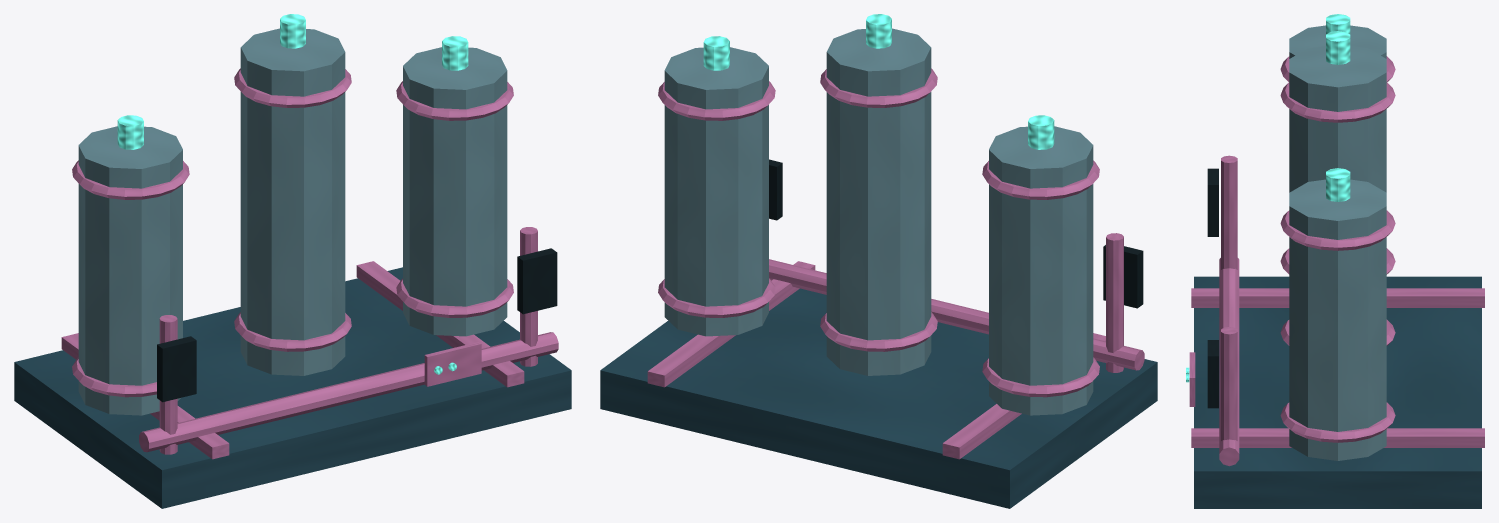
The model's file is atlas100-s068-a01.glb.
3 views of the same model, side by side, from view 1: azimuth 30°, elevation 25°; view 2: azimuth 150°, elevation 25°; view 3: azimuth 270°, elevation 25° (orthographic). The views are drawn at different scales.
Visible parts, largest first — view 1: atlas100-s068-a01:part-000, atlas100-s068-a01:part-007, atlas100-s068-a01:part-011, atlas100-s068-a01:part-003, atlas100-s068-a01:part-019, atlas100-s068-a01:part-018, atlas100-s068-a01:part-016, atlas100-s068-a01:part-002, atlas100-s068-a01:part-020, atlas100-s068-a01:part-009, atlas100-s068-a01:part-005, atlas100-s068-a01:part-013 (+9 smaller); view 2: atlas100-s068-a01:part-000, atlas100-s068-a01:part-007, atlas100-s068-a01:part-011, atlas100-s068-a01:part-003, atlas100-s068-a01:part-019, atlas100-s068-a01:part-002, atlas100-s068-a01:part-015, atlas100-s068-a01:part-001, atlas100-s068-a01:part-009, atlas100-s068-a01:part-004, atlas100-s068-a01:part-005, atlas100-s068-a01:part-013 (+7 smaller); view 3: atlas100-s068-a01:part-000, atlas100-s068-a01:part-011, atlas100-s068-a01:part-007, atlas100-s068-a01:part-002, atlas100-s068-a01:part-001, atlas100-s068-a01:part-019, atlas100-s068-a01:part-015, atlas100-s068-a01:part-017, atlas100-s068-a01:part-003, atlas100-s068-a01:part-013, atlas100-s068-a01:part-012, atlas100-s068-a01:part-009 (+9 smaller).
Part boxes in pixels (x1,y1,x2,y2): atlas100-s068-a01:part-000: (14,267,571,508); atlas100-s068-a01:part-007: (240,28,345,375); atlas100-s068-a01:part-011: (403,47,507,336); atlas100-s068-a01:part-003: (78,126,182,415); atlas100-s068-a01:part-019: (139,332,558,452); atlas100-s068-a01:part-018: (517,248,557,314); atlas100-s068-a01:part-016: (157,336,196,402); atlas100-s068-a01:part-002: (356,261,524,387); atlas100-s068-a01:part-020: (424,342,481,386); atlas100-s068-a01:part-009: (234,68,351,107); atlas100-s068-a01:part-005: (72,160,189,199); atlas100-s068-a01:part-013: (396,81,513,120); atlas100-s068-a01:part-000: (600,288,1157,508); atlas100-s068-a01:part-007: (826,28,931,375); atlas100-s068-a01:part-011: (664,47,768,336); atlas100-s068-a01:part-003: (989,126,1093,415); atlas100-s068-a01:part-019: (769,259,1144,370); atlas100-s068-a01:part-002: (647,261,815,387); atlas100-s068-a01:part-015: (1106,233,1123,372); atlas100-s068-a01:part-001: (942,333,1105,459); atlas100-s068-a01:part-009: (820,68,937,107); atlas100-s068-a01:part-004: (982,357,1099,397); atlas100-s068-a01:part-005: (982,160,1099,199); atlas100-s068-a01:part-013: (658,81,775,120); atlas100-s068-a01:part-000: (1194,276,1481,508); atlas100-s068-a01:part-011: (1289,179,1386,460); atlas100-s068-a01:part-007: (1289,46,1386,192); atlas100-s068-a01:part-002: (1191,428,1484,447); atlas100-s068-a01:part-001: (1191,288,1484,307); atlas100-s068-a01:part-019: (1219,258,1239,466); atlas100-s068-a01:part-015: (1221,155,1237,269); atlas100-s068-a01:part-017: (1221,327,1237,440); atlas100-s068-a01:part-003: (1289,25,1386,58); atlas100-s068-a01:part-013: (1280,210,1395,250); atlas100-s068-a01:part-012: (1280,402,1395,442); atlas100-s068-a01:part-009: (1280,82,1395,122).
Size of the model in its own units: 3 by 2.59 by 1.87.
5 materials, 5 textured.
